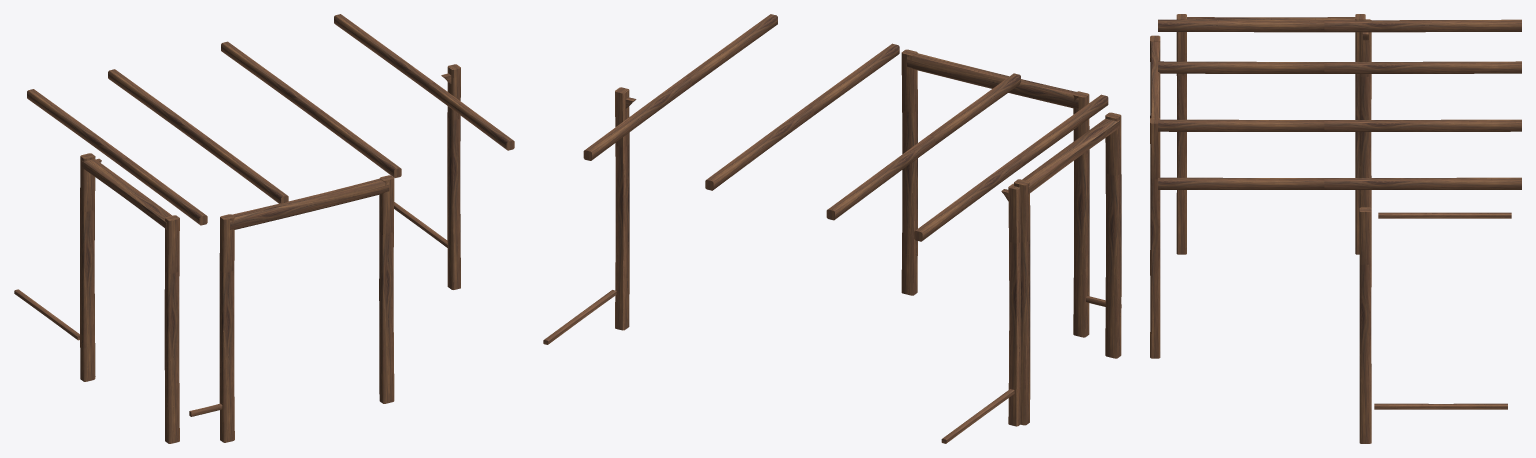
Rendered from CM_SW10_RoomJoinery.fbx.
3 views of the same model, side by side, from view 1: azimuth 30°, elevation 25°; view 2: azimuth 150°, elevation 25°; view 3: azimuth 270°, elevation 25° (orthographic). The views are drawn at different scales.
Parts seen in each view (by area): view 1: CM_SW10_RoomJoinery; view 2: CM_SW10_RoomJoinery; view 3: CM_SW10_RoomJoinery.
Part boxes in pixels (left/top/right/bottom): CM_SW10_RoomJoinery: left=14, top=14, right=514, bottom=443; CM_SW10_RoomJoinery: left=543, top=14, right=1121, bottom=443; CM_SW10_RoomJoinery: left=1150, top=14, right=1521, bottom=443.
Size of the model in its own units: 5.39 by 3.09 by 4.33.
